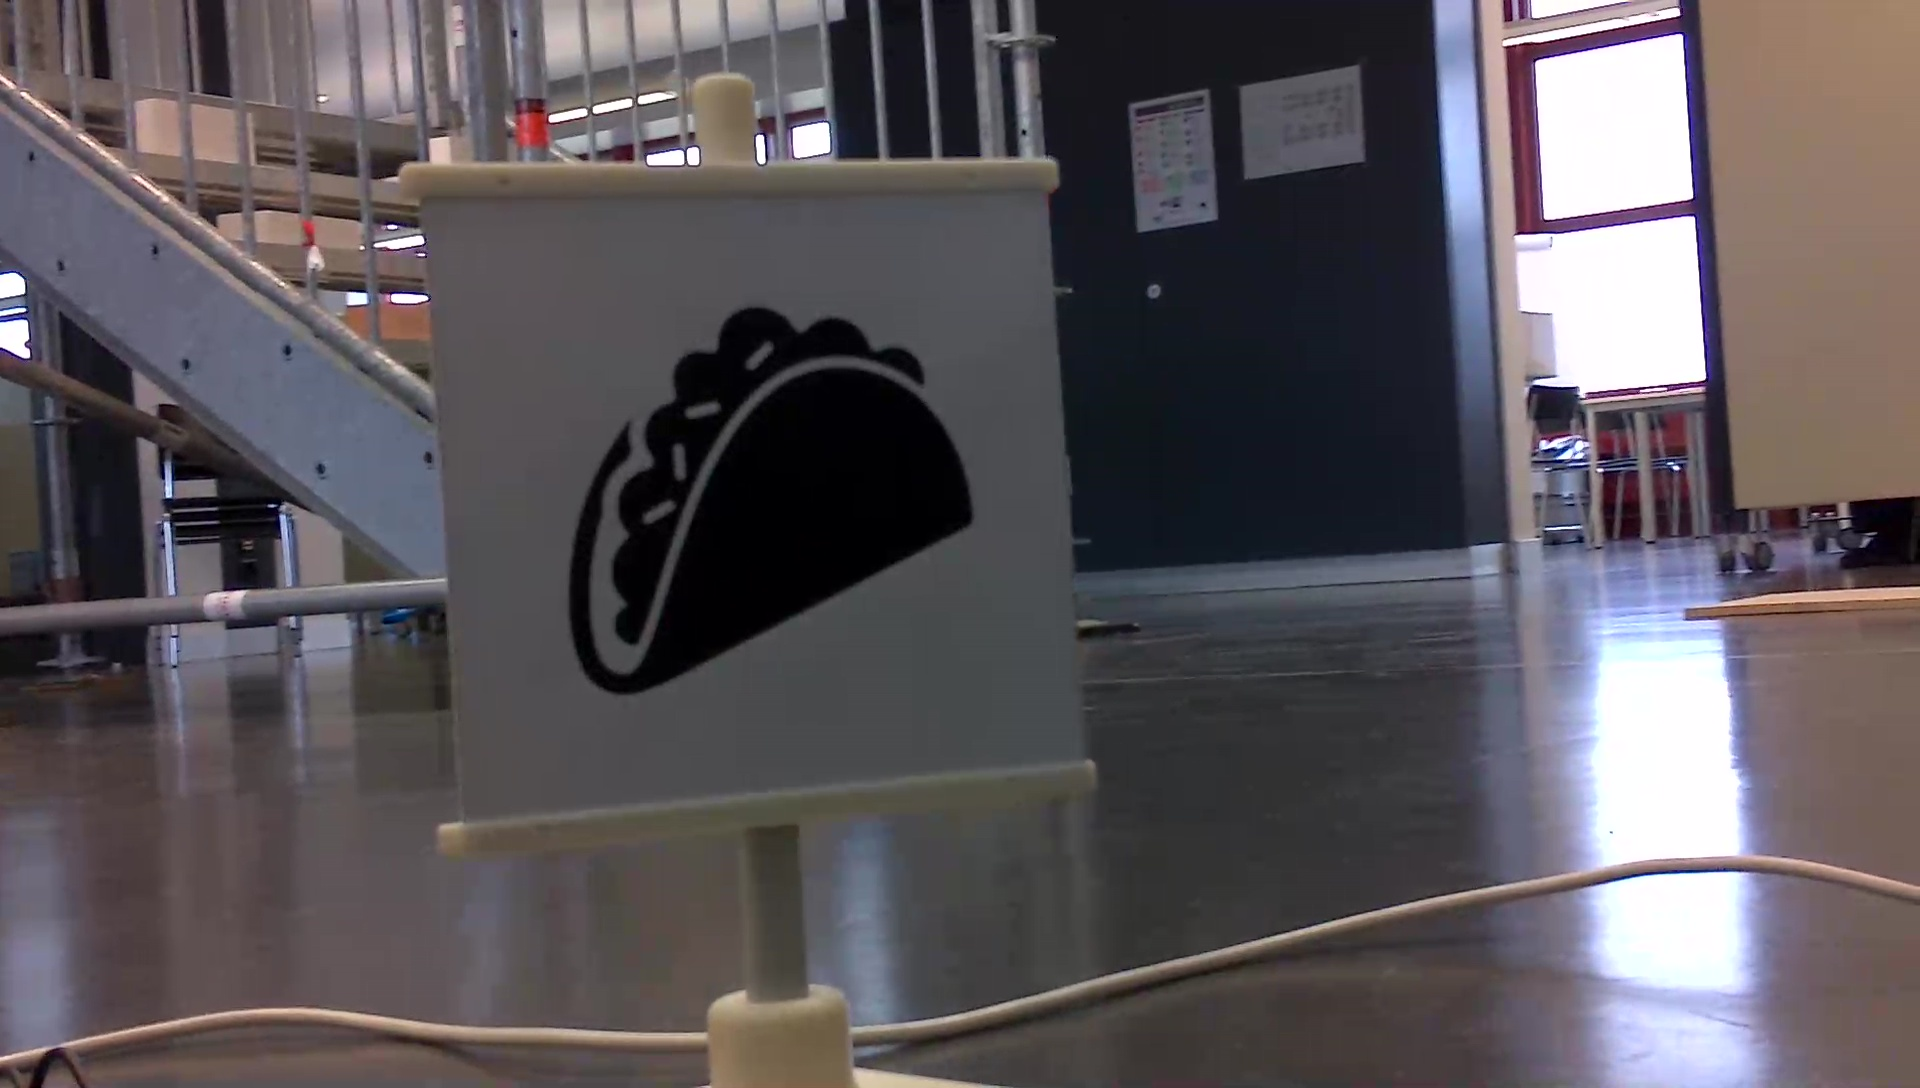taco: (553, 295, 982, 702)
